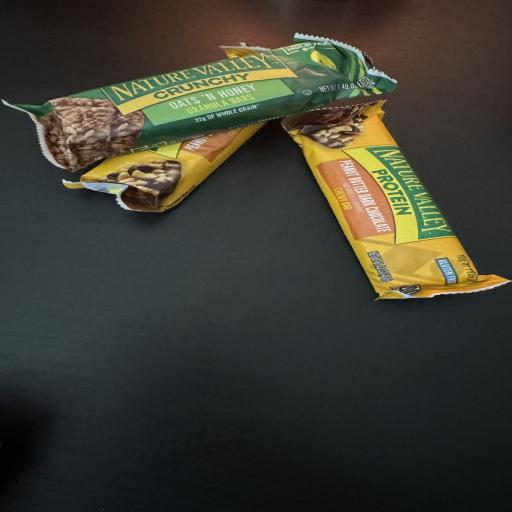granola: (11, 35, 395, 171), (283, 101, 508, 298), (63, 124, 263, 212)
